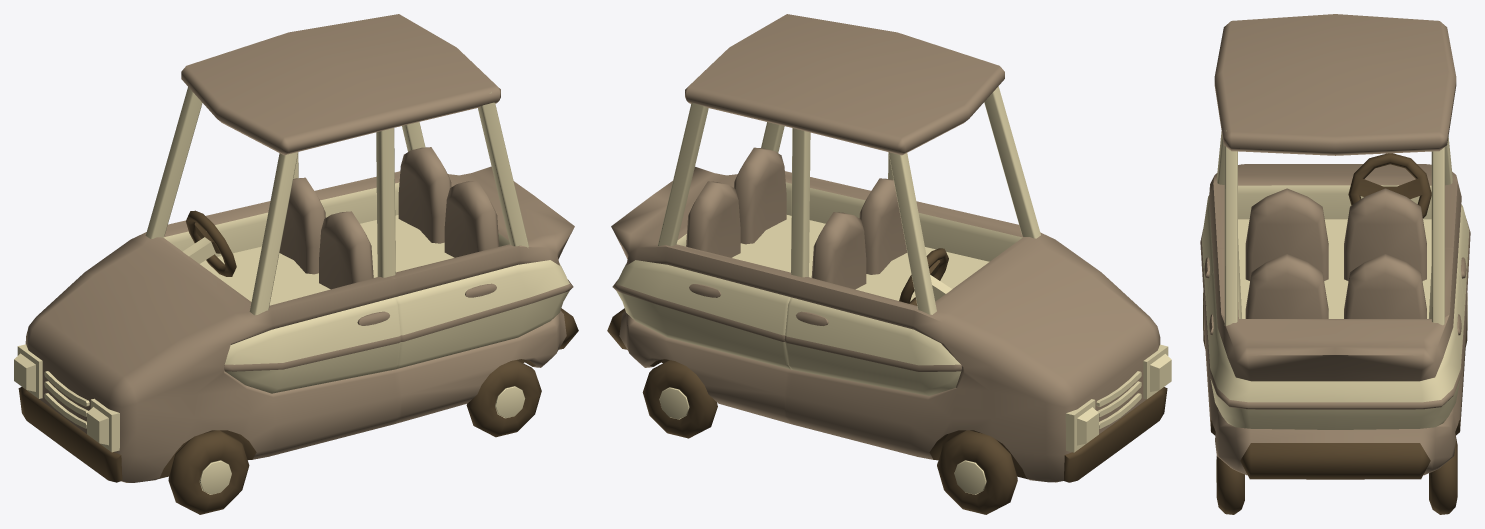
The model's file is Car_MDL.fbx.
The picture shows the model from 3 angles, left to right: view 1: azimuth 30°, elevation 25°; view 2: azimuth 150°, elevation 25°; view 3: azimuth 270°, elevation 25°; orthographic projection. The views are drawn at different scales.
Visible parts, largest first — view 1: Car_GEO; view 2: Car_GEO; view 3: Car_GEO.
Part boxes in pixels (x1,y1,x2,y2): Car_GEO: [14, 14, 578, 514]; Car_GEO: [607, 14, 1171, 514]; Car_GEO: [1200, 14, 1470, 514].
Size of the model in its own units: 320 by 228 by 145.
